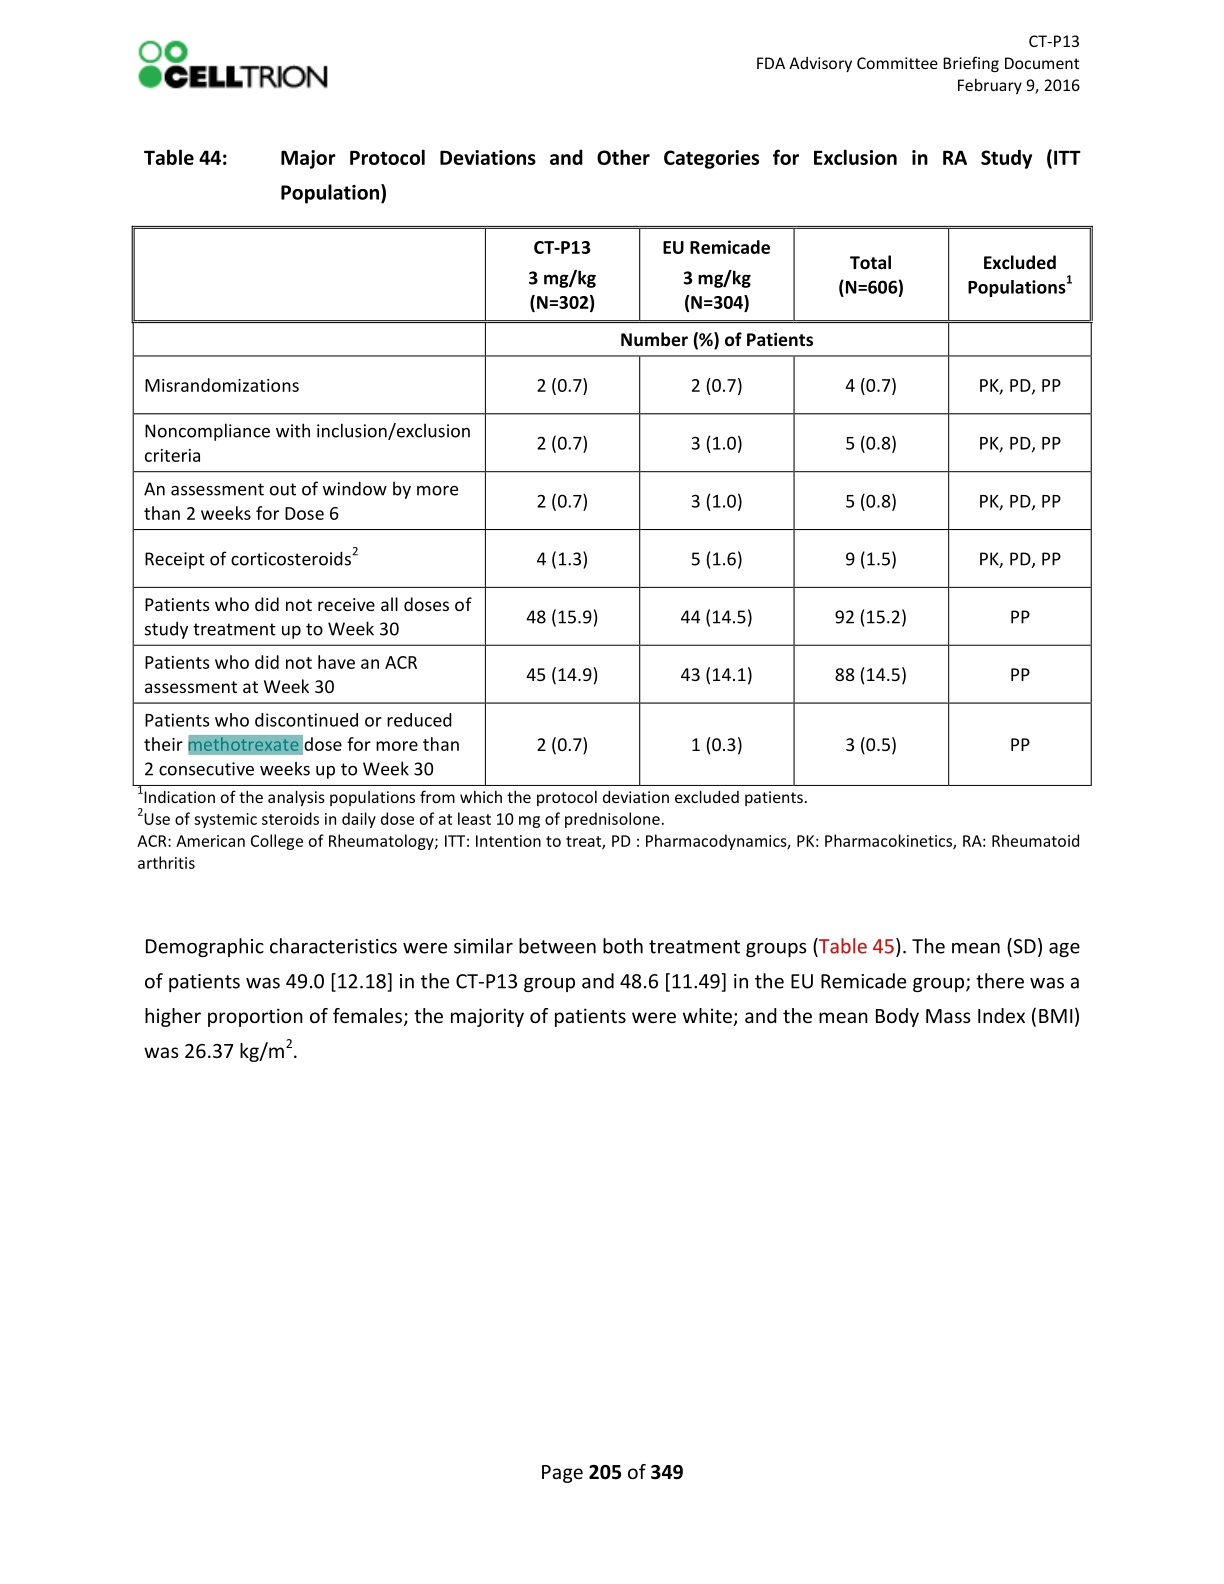merged_cells: (130, 224, 1092, 787)
